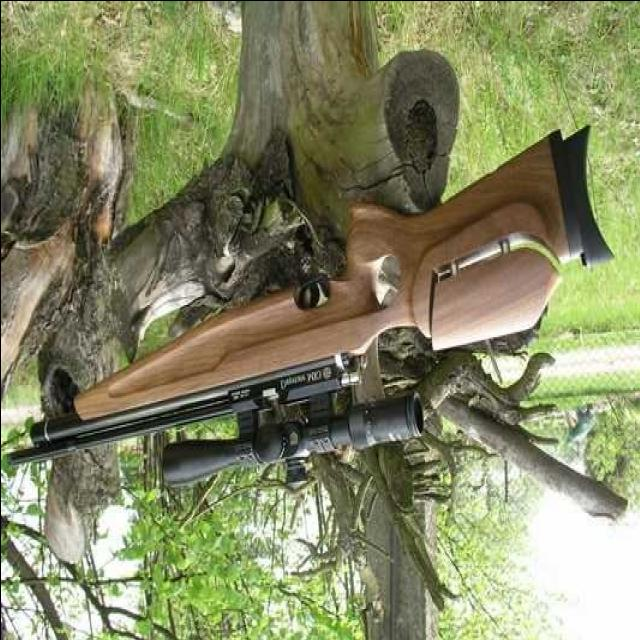heavyweapon: (12, 131, 609, 523)
